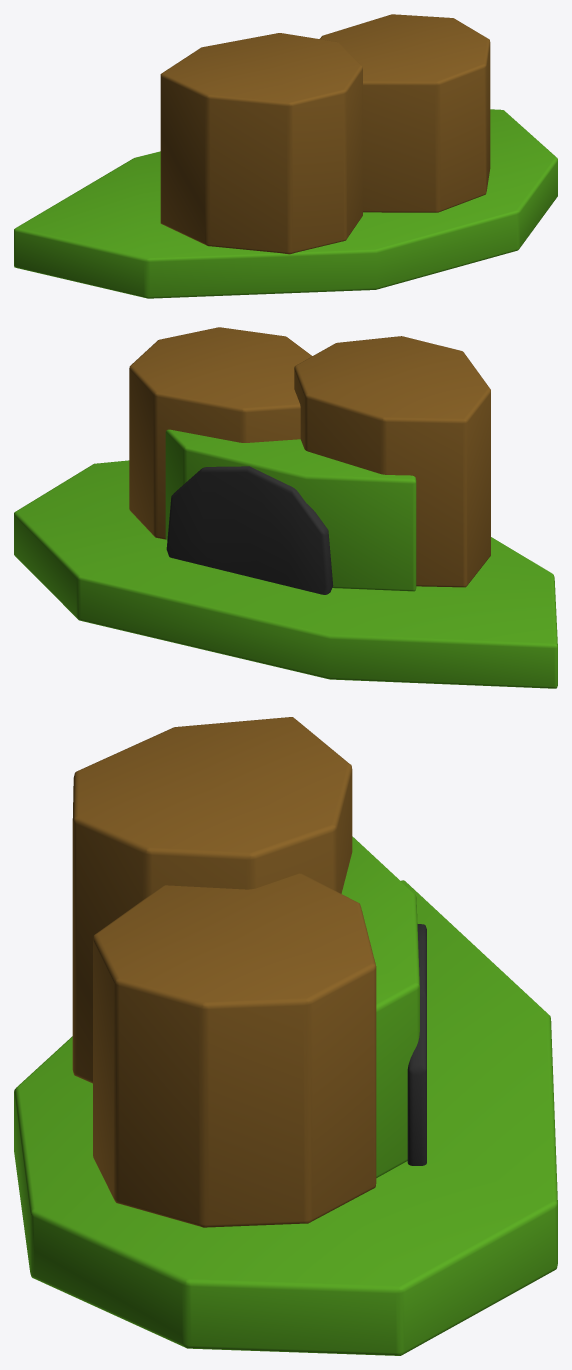
Rendered from mountain.fbx.
3 views of the same model, one above another, from view 1: azimuth 30°, elevation 25°; view 2: azimuth 150°, elevation 25°; view 3: azimuth 270°, elevation 25° (orthographic). The views are drawn at different scales.
Parts seen in each view (by area): view 1: canyonTunel; view 2: canyonTunel, Tunel; view 3: canyonTunel, Tunel.
Boxes of the visible parts, left/top/right/bottom form: canyonTunel: left=14, top=14, right=557, bottom=298; canyonTunel: left=14, top=327, right=557, bottom=688; Tunel: left=166, top=466, right=333, bottom=594; canyonTunel: left=14, top=717, right=557, bottom=1355; Tunel: left=407, top=924, right=426, bottom=1165.
Size of the model in its own units: 5.07 by 1.89 by 2.84.
